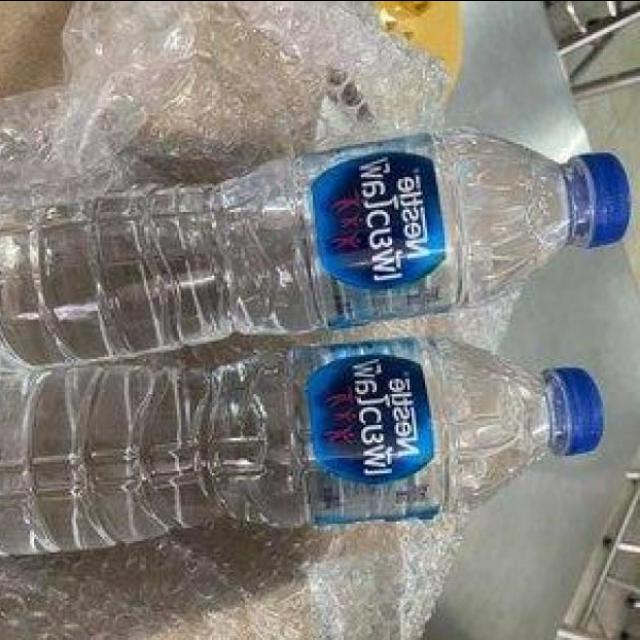plastik: (0, 130, 631, 365), (0, 338, 603, 554), (0, 0, 446, 208), (0, 519, 461, 640)
